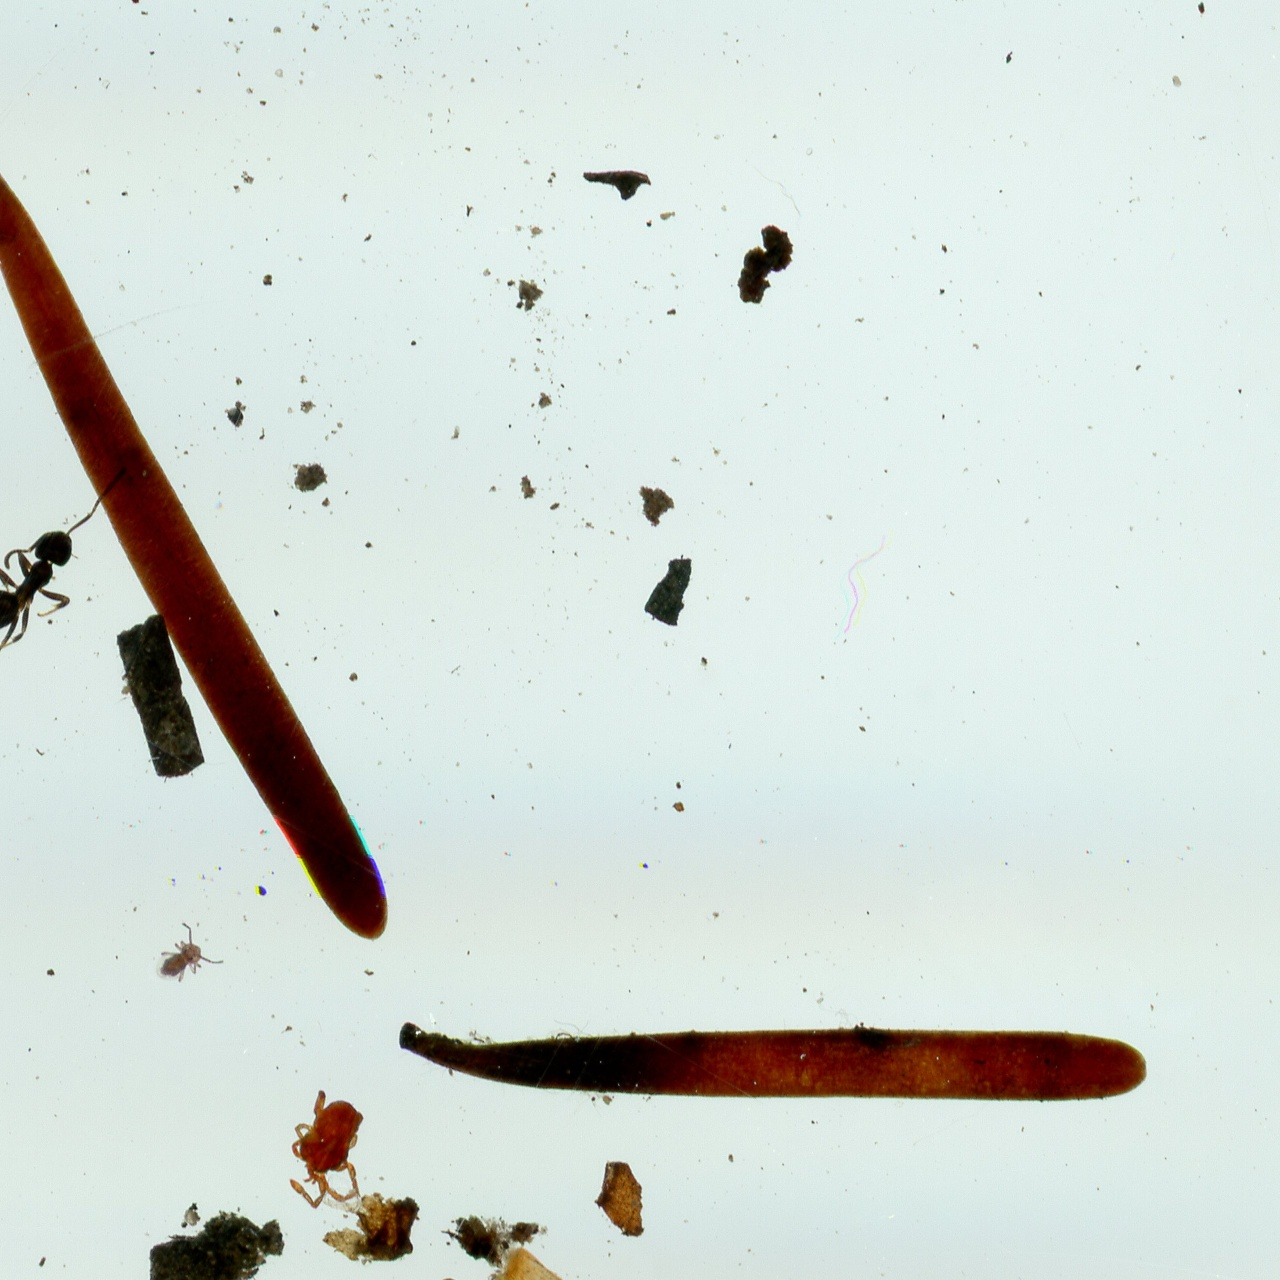arthropod: (0, 471, 120, 693), (288, 1088, 362, 1204), (145, 915, 227, 999)
